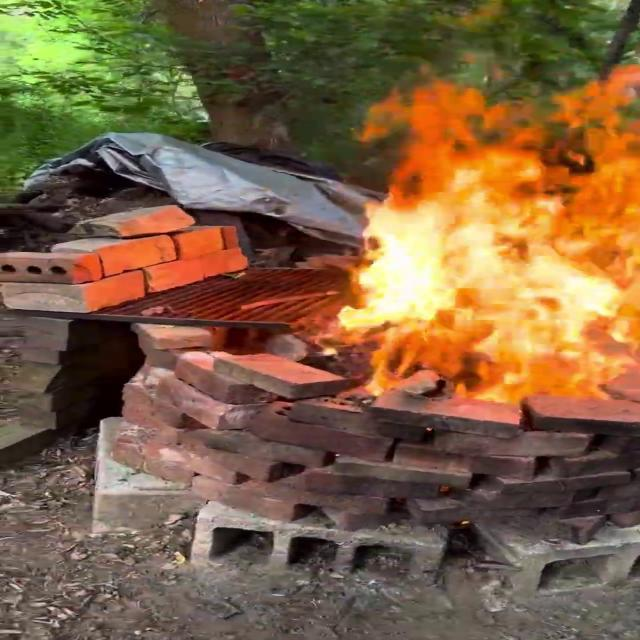Fire: (326, 63, 638, 410)
